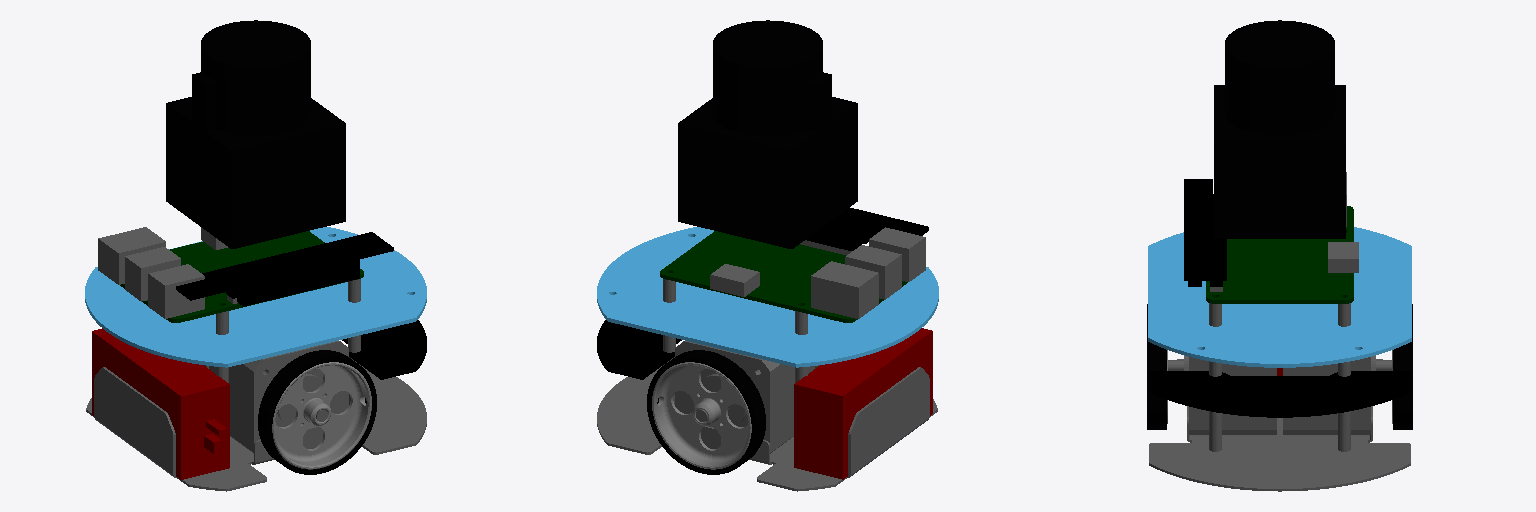
URDF robot description (raspimouse):
<?xml version="1.0"?>
<robot name="raspimouse">
  <link name="base_footprint"/>

  <joint name="base_joint" type="fixed">
    <origin xyz="0 0 0.00185"/>
    <parent link="base_footprint"/>
    <child link="base_link"/>
  </joint>

  <link name="base_link">
     <visual>
      <geometry>
        <mesh filename="package://raspimouse_description/meshes/dae/body/raspimouse_body.dae"/>
      </geometry>
    </visual>
  </link>

  <joint name="left_wheel_joint" type="continuous">
    <origin xyz="0 0.0425 0.02215" rpy="-1.57 0 0"/>
    <axis xyz="0 0 1"/> 
    <parent link="base_link"/>
    <child link="left_wheel_link"/>
  </joint>
  
  <link name="left_wheel_link">
     <visual>
      <geometry>
        <mesh filename="package://raspimouse_description/meshes/dae/wheel/raspimouse_wheel.dae"/>
      </geometry>
    </visual>
  </link>
  
  <joint name="right_wheel_joint" type="continuous">
    <origin xyz="0 -0.0425 0.02215" rpy="1.57 0 0"/>
    <axis xyz="0 0 1"/> 
    <parent link="base_link"/>
    <child link="right_wheel_link"/>
  </joint>
  
  <link name="right_wheel_link">
     <visual>
      <geometry>
        <mesh filename="package://raspimouse_description/meshes/dae/wheel/raspimouse_wheel.dae"/>
      </geometry>
    </visual>
  </link>
  
  <joint name="urg_mount_joint" type="fixed">
    <origin xyz="0 0 0" rpy="0 0 0"/>
    <parent link="base_link"/>
    <child link="urg_mount_link"/>
  </joint>
  
  <link name="urg_mount_link">
     <visual>
      <geometry>
        <mesh filename="package://raspimouse_description/meshes/dae/body/raspimouse_top_plate.dae"/>
      </geometry>
    </visual>
  </link>
  
  <joint name="urg_joint" type="fixed">
    <origin xyz="0.0 0.0 0.14060" rpy="0 0 0" />
    <parent link="urg_mount_link"/>
    <child link="lidar_link"/>
  </joint>
  
  <link name="lidar_link">
     <visual>
      <geometry>
        <mesh filename="package://raspimouse_description/meshes/dae/sensor/urg_optical_axis_center_origin.dae"/>
      </geometry>
    </visual>
  </link>

</robot>

--- What the picture shows (computed from the rendered views, not written in the file) ---
3 views of the same robot in one strip: view 1: azimuth 30°, elevation 25°; view 2: azimuth 150°, elevation 25°; view 3: azimuth 270°, elevation 25° (orthographic).
Robot: raspimouse — 6 links, 5 joints (2 continuous, 3 fixed); root link base_footprint; default pose: every joint at zero.
Links seen in each view (by area): view 1: base_link, lidar_link, right_wheel_link; view 2: base_link, lidar_link, left_wheel_link; view 3: base_link, lidar_link, left_wheel_link, right_wheel_link.
Link boxes in pixels (bbox=[...]): base_link: bbox=[85, 227, 426, 491]; lidar_link: bbox=[166, 20, 345, 248]; right_wheel_link: bbox=[258, 350, 376, 474]; base_link: bbox=[597, 208, 938, 491]; lidar_link: bbox=[678, 20, 857, 248]; left_wheel_link: bbox=[647, 350, 765, 474]; base_link: bbox=[1148, 172, 1411, 491]; lidar_link: bbox=[1214, 20, 1345, 238]; left_wheel_link: bbox=[1392, 304, 1412, 429]; right_wheel_link: bbox=[1147, 304, 1167, 429].
Bounding box of the posed robot: 0.13 × 0.101 × 0.1596 m (x, y, z).
4 mesh visuals loaded from 4 distinct referenced files (3 Collada DAE); not drawn: 1 (reference not matched to a file when rendering).